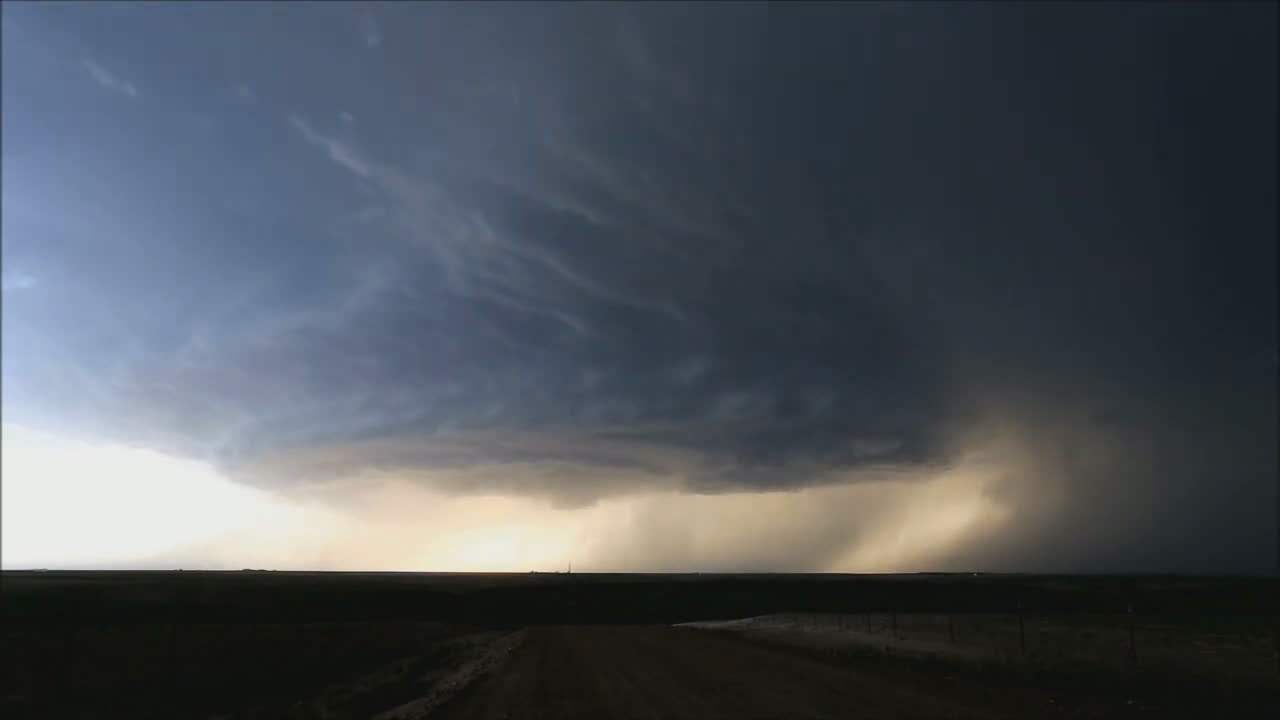FFD: (935, 413, 1277, 572)
RFD: (572, 477, 936, 574)
mesocyclone: (250, 78, 986, 501)
striations: (217, 366, 843, 480)
wall cloud: (400, 459, 707, 512)
